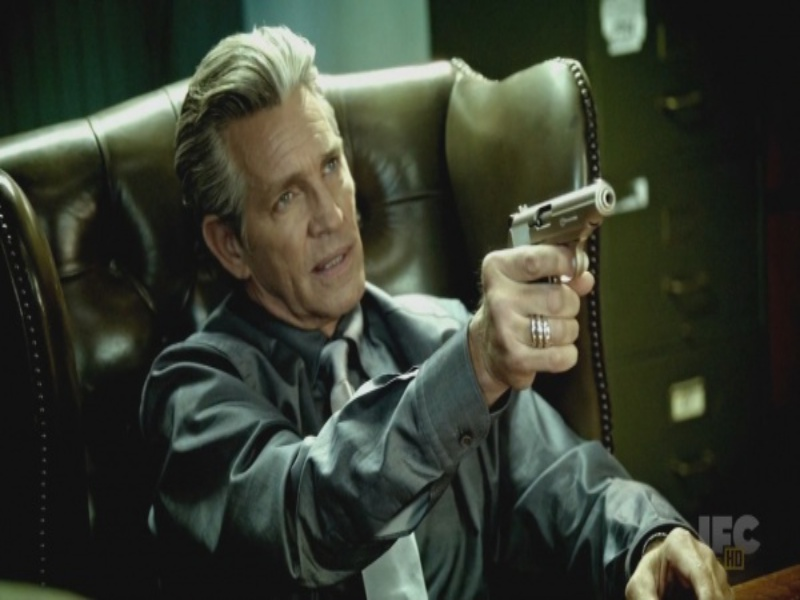person: (151, 21, 737, 600)
weapon: (506, 174, 625, 288)
